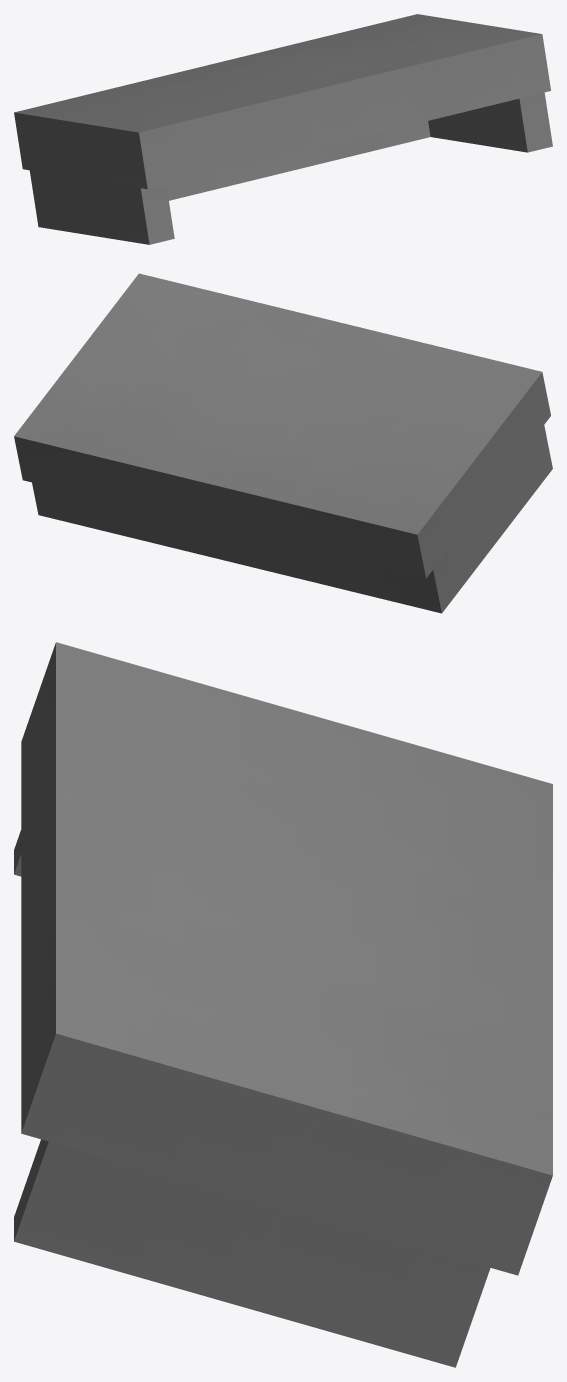
Rendered from dc_metro_arch_c9.obj.
The picture shows the model from 3 angles, top to bottom: view 1: azimuth 30°, elevation 25°; view 2: azimuth 150°, elevation 25°; view 3: azimuth 270°, elevation 25°; orthographic projection. The views are drawn at different scales.
Parts seen in each view (by area): view 1: part9; view 2: part9; view 3: part9.
Boxes of the visible parts, x1,y1,x2,y2 form: part9: [14, 14, 552, 244]; part9: [14, 273, 552, 613]; part9: [14, 642, 552, 1367].
Bounding box in the file's own units: 2 × 0.7964 × 1.16.
Materials: 2 (2 with a texture image).
